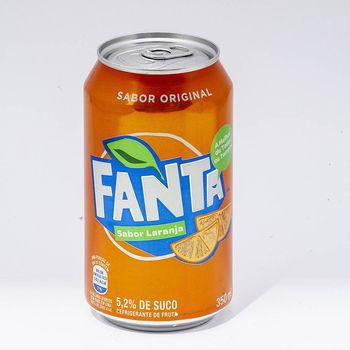metal: (85, 33, 234, 332)
